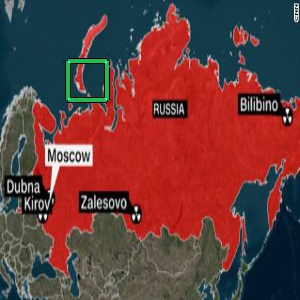square: (64, 57, 111, 103)
